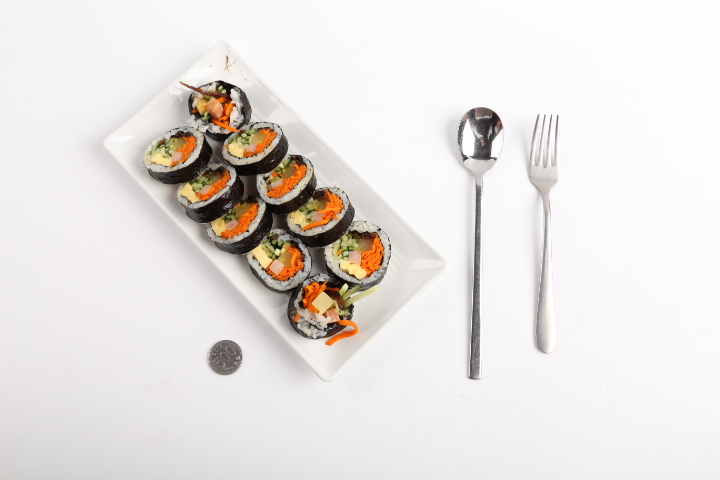dish: (103, 39, 447, 380)
ref_coin: (209, 339, 243, 375)
ref_fork: (528, 113, 558, 194)
ref_spoon: (458, 107, 504, 182)
김밥: (143, 80, 392, 339)
